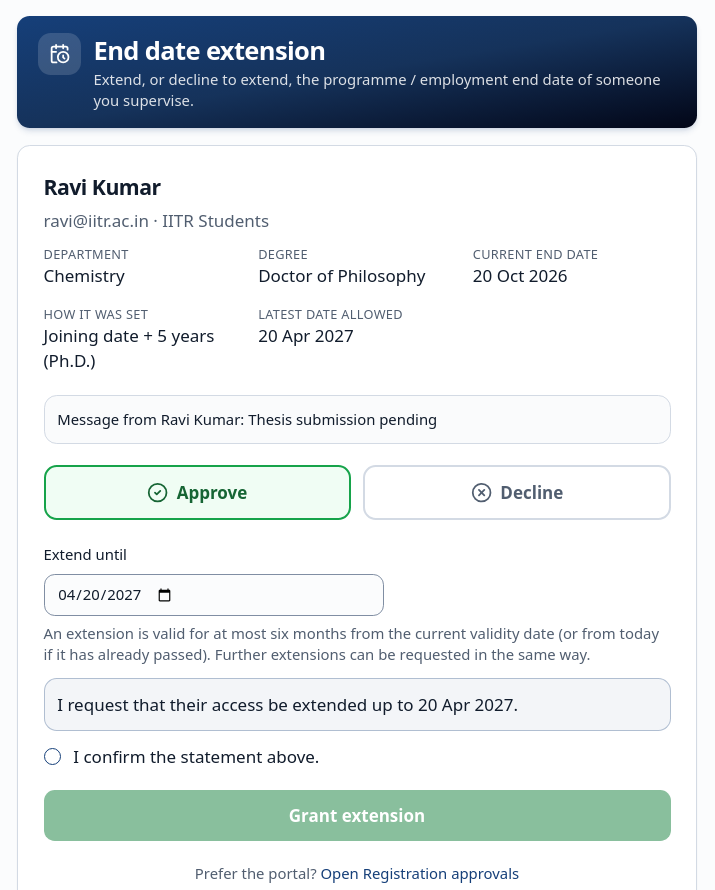
Test: Extension decision from the faculty email › shows the degree and how the end date was set, and needs the confirmation to approve
expect the text "Doctor of Philosophy" is shown: met, box 258,264 -> 425,287
expect the text "Joining date + 5 years (Ph.D.)" is shown: met, box 44,322 -> 241,374
Click the checkbox at (52, 756), box 44,748 -> 60,765
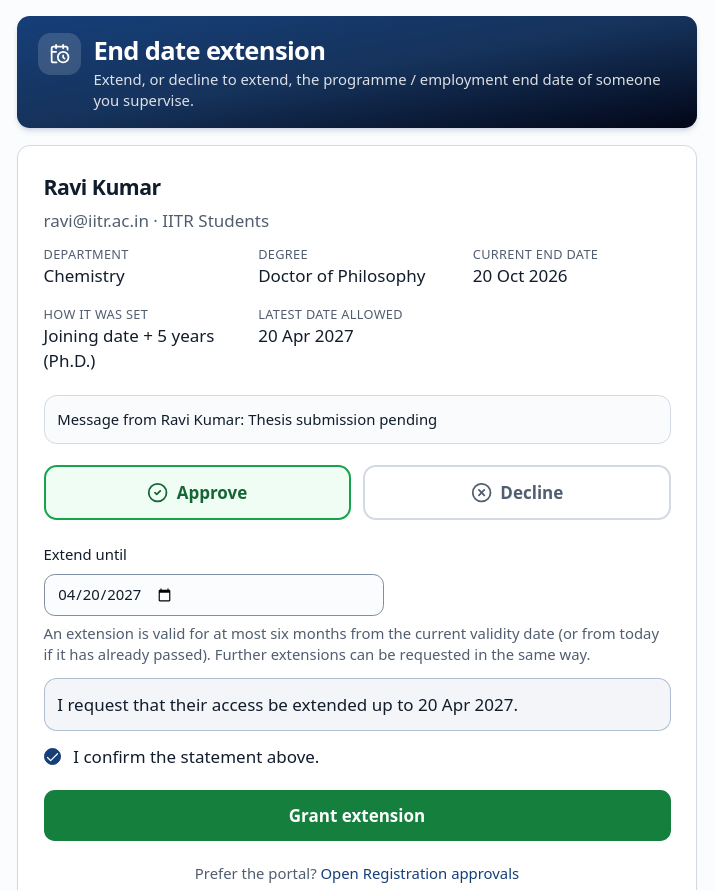
Click the button "Grant extension" at (357, 816), box 44,790 -> 670,841
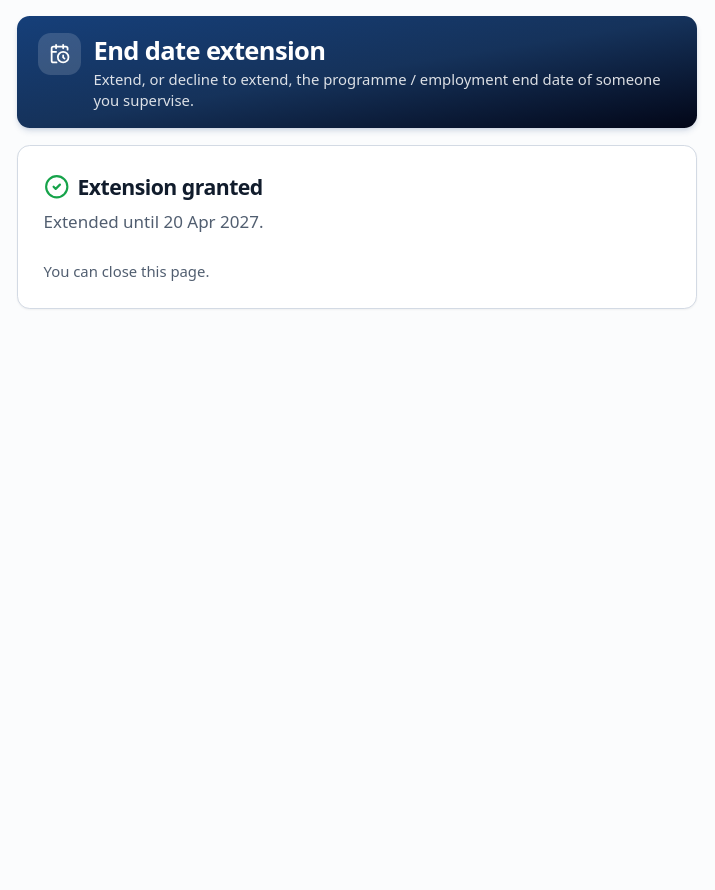
expect the text "Extension granted" is shown: met, box 44,172 -> 263,201
